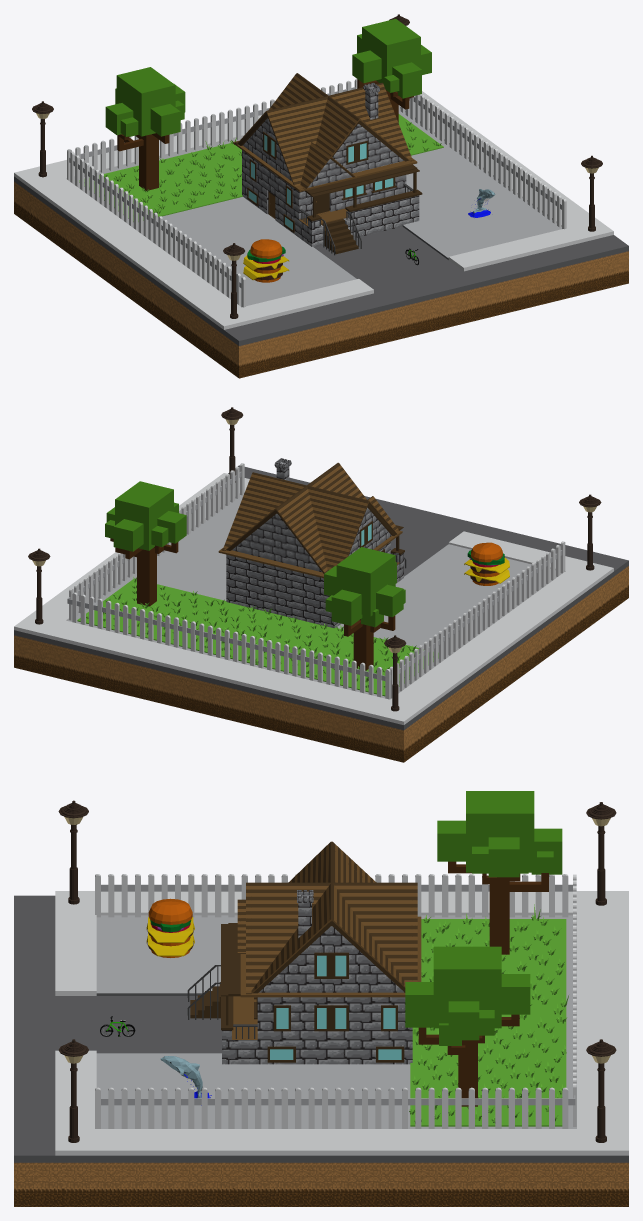
3 views of the same model, one above another, from view 1: azimuth 30°, elevation 25°; view 2: azimuth 150°, elevation 25°; view 3: azimuth 270°, elevation 25° (orthographic). The views are drawn at different scales.
Parts seen in each view (by area): view 1: Cube.004, Cube.586, OBJRANDOM_HAMBURGER; view 2: Cube.004, Cube.586, OBJRANDOM_HAMBURGER; view 3: Cube.004, Cube.586, OBJRANDOM_HAMBURGER, ANIMAL_DELFIN.
Boxes of the visible parts, x1,y1,x2,y2 form: Cube.004: (14, 14, 628, 378); Cube.586: (233, 73, 422, 255); OBJRANDOM_HAMBURGER: (243, 239, 289, 282); Cube.004: (14, 407, 628, 762); Cube.586: (218, 458, 406, 627); OBJRANDOM_HAMBURGER: (464, 542, 509, 585); Cube.004: (14, 791, 628, 1206); Cube.586: (187, 841, 421, 1064); OBJRANDOM_HAMBURGER: (146, 898, 194, 957); ANIMAL_DELFIN: (160, 1056, 211, 1105).
Bounding box in the file's own units: 4000 × 1762 × 4000.
Materials: 32 (4 with a texture image).
